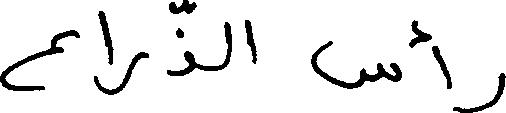X: (0, 25, 77, 95), (310, 36, 401, 93), (456, 68, 505, 112), (169, 0, 193, 80), (97, 6, 115, 99), (117, 47, 147, 97), (432, 41, 451, 93), (242, 15, 256, 68), (225, 17, 230, 71)
